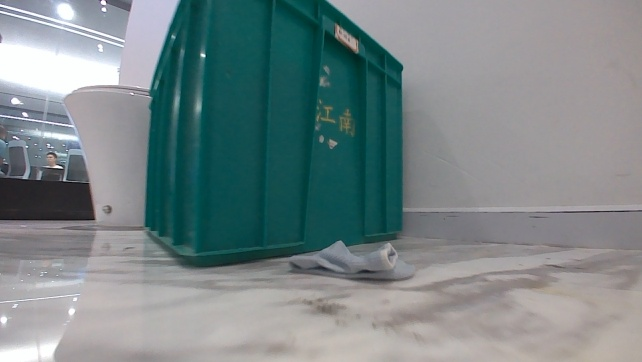socks: (286, 235, 416, 282)
toilet: (59, 83, 146, 231)
